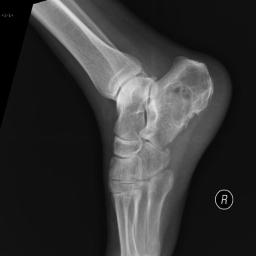cancer: (159, 62, 214, 136)
